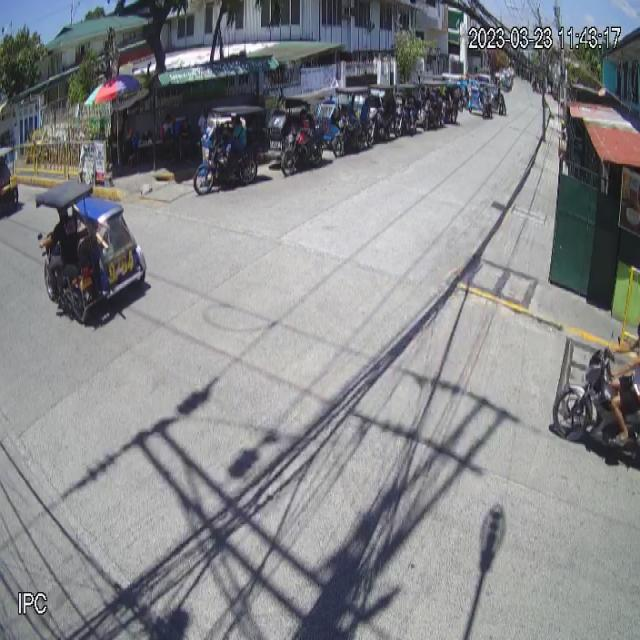Tricycle: (36, 181, 146, 327)
